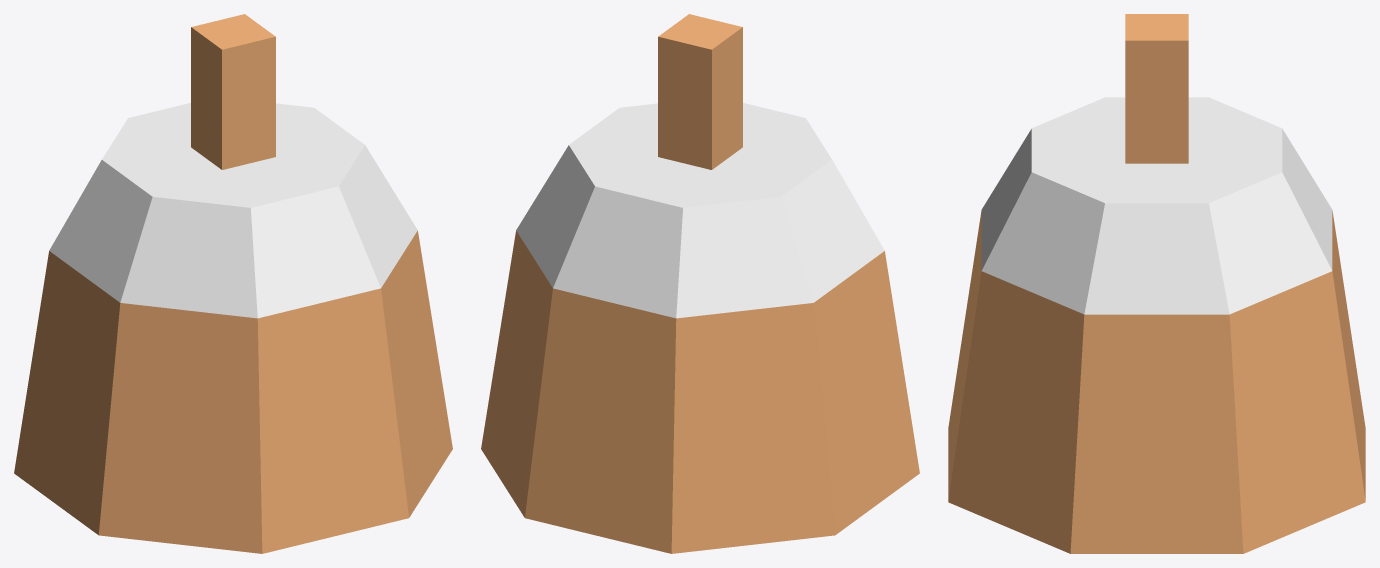
File: buoy.glb
The picture shows the model from 3 angles, left to right: view 1: azimuth 30°, elevation 25°; view 2: azimuth 150°, elevation 25°; view 3: azimuth 270°, elevation 25°; orthographic projection. The views are drawn at different scales.
Visible parts, largest first — view 1: Mesh; view 2: Mesh; view 3: Mesh.
Part boxes in pixels (x1=…): Mesh: x1=14, y1=14, x2=452, y2=553; Mesh: x1=481, y1=14, x2=919, y2=553; Mesh: x1=948, y1=14, x2=1365, y2=553.
Bounding box in the file's own units: 0.9239 × 1.07 × 0.9239.
